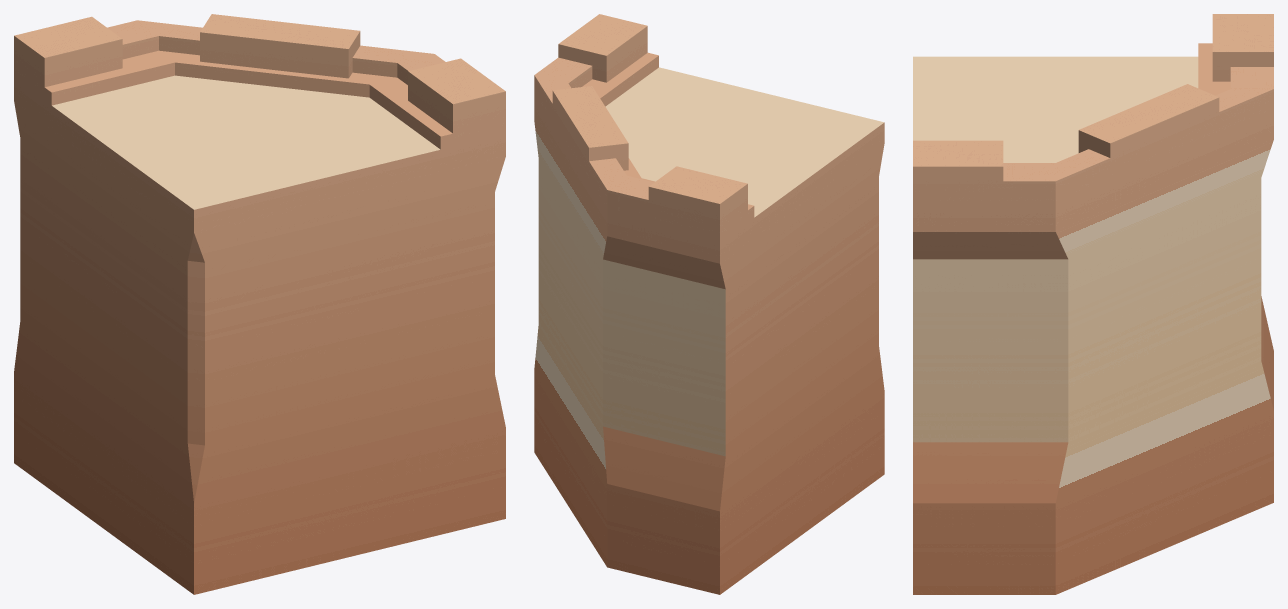
File: wall-corner-slant.glb
The picture shows the model from 3 angles, left to right: view 1: azimuth 30°, elevation 25°; view 2: azimuth 150°, elevation 25°; view 3: azimuth 270°, elevation 25°; orthographic projection. The views are drawn at different scales.
Visible parts, largest first — view 1: wall-corner-slant; view 2: wall-corner-slant; view 3: wall-corner-slant.
Boxes of the visible parts, x1=… form: wall-corner-slant: x1=14, y1=14, x2=505, y2=594; wall-corner-slant: x1=534, y1=14, x2=884, y2=594; wall-corner-slant: x1=913, y1=14, x2=1273, y2=594.
Size of the model in its own units: 1 by 1.31 by 1.
1 material, 1 textured.
